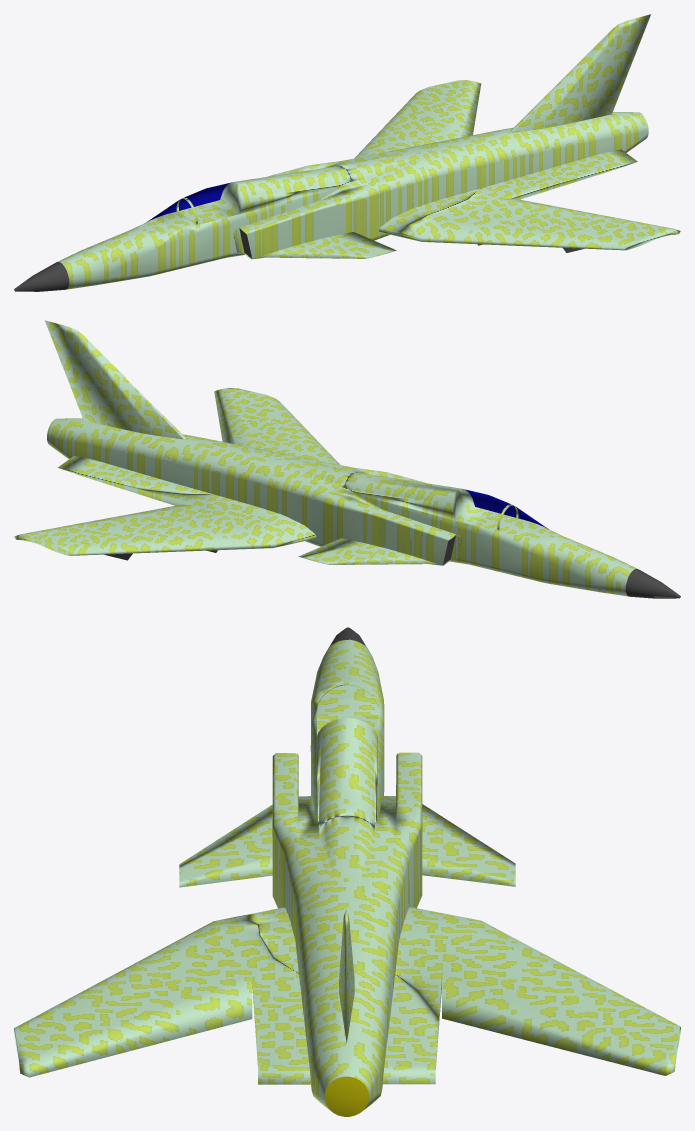
The model's file is flight.obj.
3 renders of one model, top to bottom at view 1: azimuth 30°, elevation 25°; view 2: azimuth 150°, elevation 25°; view 3: azimuth 270°, elevation 25°, orthographic. The views are drawn at different scales.
Parts seen in each view (by area): view 1: ICP_0Geo*0_0, ICP_3Geo*0_3, ICP_1Geo*0_1; view 2: ICP_0Geo*0_0, ICP_3Geo*0_3, ICP_1Geo*0_1; view 3: ICP_0Geo*0_0, ICP_2Geo*0_2.
Part boxes in pixels (<box>): ICP_0Geo*0_0: <box>56,14,680,289</box>; ICP_3Geo*0_3: <box>14,228,251,291</box>; ICP_1Geo*0_1: <box>146,182,230,222</box>; ICP_0Geo*0_0: <box>14,320,637,596</box>; ICP_3Geo*0_3: <box>443,536,680,598</box>; ICP_1Geo*0_1: <box>465,489,548,529</box>; ICP_0Geo*0_0: <box>14,639,680,1111</box>; ICP_2Geo*0_2: <box>324,1076,368,1116</box>.
Size of the model in its own units: 1.74 by 0.3742 by 0.9943.
Materials: 4 (1 with a texture image).
